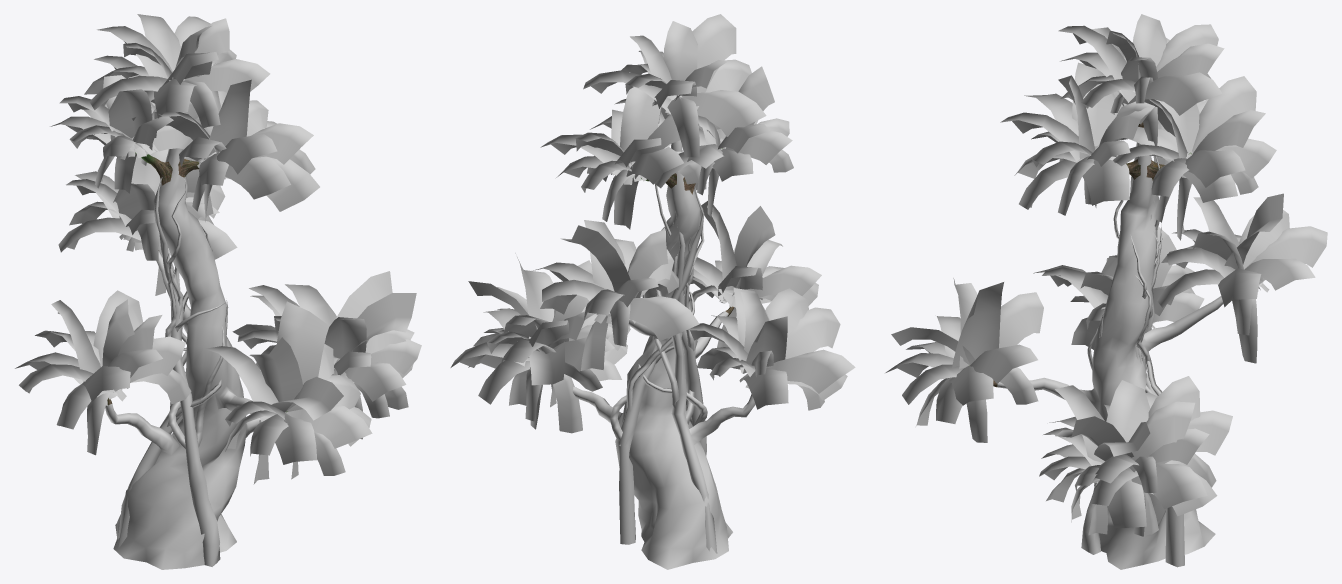
File: Plant6_1_L1.fbx
The picture shows the model from 3 angles, left to right: view 1: azimuth 30°, elevation 25°; view 2: azimuth 150°, elevation 25°; view 3: azimuth 270°, elevation 25°; orthographic projection. The views are drawn at different scales.
Parts seen in each view (by area): view 1: polySurface2042; view 2: polySurface2042; view 3: polySurface2042.
Part boxes in pixels (x1=…): polySurface2042: x1=15, y1=14, x2=421, y2=569; polySurface2042: x1=450, y1=14, x2=855, y2=569; polySurface2042: x1=885, y1=14, x2=1327, y2=569.
Size of the model in its own units: 723 by 935 by 718.
